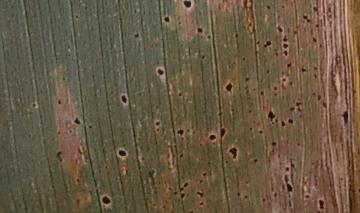tarspot: (223, 141, 242, 163), (263, 106, 279, 123), (116, 90, 132, 106), (98, 192, 114, 208), (272, 21, 288, 37), (70, 113, 84, 130), (53, 147, 67, 164), (341, 106, 351, 129), (114, 146, 130, 160), (217, 125, 229, 143), (258, 39, 276, 51), (153, 65, 168, 79), (299, 12, 314, 26), (179, 1, 195, 14), (206, 130, 219, 146), (259, 37, 275, 50), (214, 105, 227, 120), (284, 116, 297, 130), (280, 181, 296, 192), (222, 80, 235, 93), (53, 95, 65, 109), (84, 120, 96, 134), (172, 127, 187, 138), (192, 25, 208, 35), (130, 29, 143, 41), (193, 187, 206, 199), (241, 72, 253, 85), (282, 59, 295, 71), (297, 63, 309, 76), (318, 101, 331, 113), (269, 188, 281, 200), (309, 4, 321, 16), (254, 127, 266, 139), (159, 14, 172, 25), (315, 196, 326, 209), (197, 169, 211, 179), (275, 117, 285, 131), (268, 138, 279, 150), (309, 33, 320, 45), (238, 52, 249, 64), (73, 195, 84, 207), (176, 149, 186, 162), (179, 179, 192, 189), (278, 39, 291, 49), (257, 85, 267, 98), (27, 100, 38, 111), (170, 186, 181, 197), (264, 2, 274, 14), (175, 88, 184, 101), (178, 189, 188, 200), (301, 191, 312, 201), (279, 73, 290, 83), (270, 82, 281, 92), (232, 30, 242, 41), (293, 140, 304, 150), (204, 158, 215, 168), (249, 157, 262, 165), (262, 67, 275, 75), (279, 49, 292, 57), (197, 52, 207, 62), (74, 173, 83, 184), (282, 163, 291, 174), (278, 3, 289, 12), (259, 195, 268, 205), (293, 97, 303, 106), (289, 160, 297, 171), (247, 123, 255, 134), (153, 118, 162, 127), (153, 126, 162, 135), (246, 109, 255, 118), (243, 192, 250, 203), (72, 12, 81, 20), (233, 189, 241, 198), (312, 64, 320, 73), (188, 206, 197, 213), (310, 87, 317, 96)
